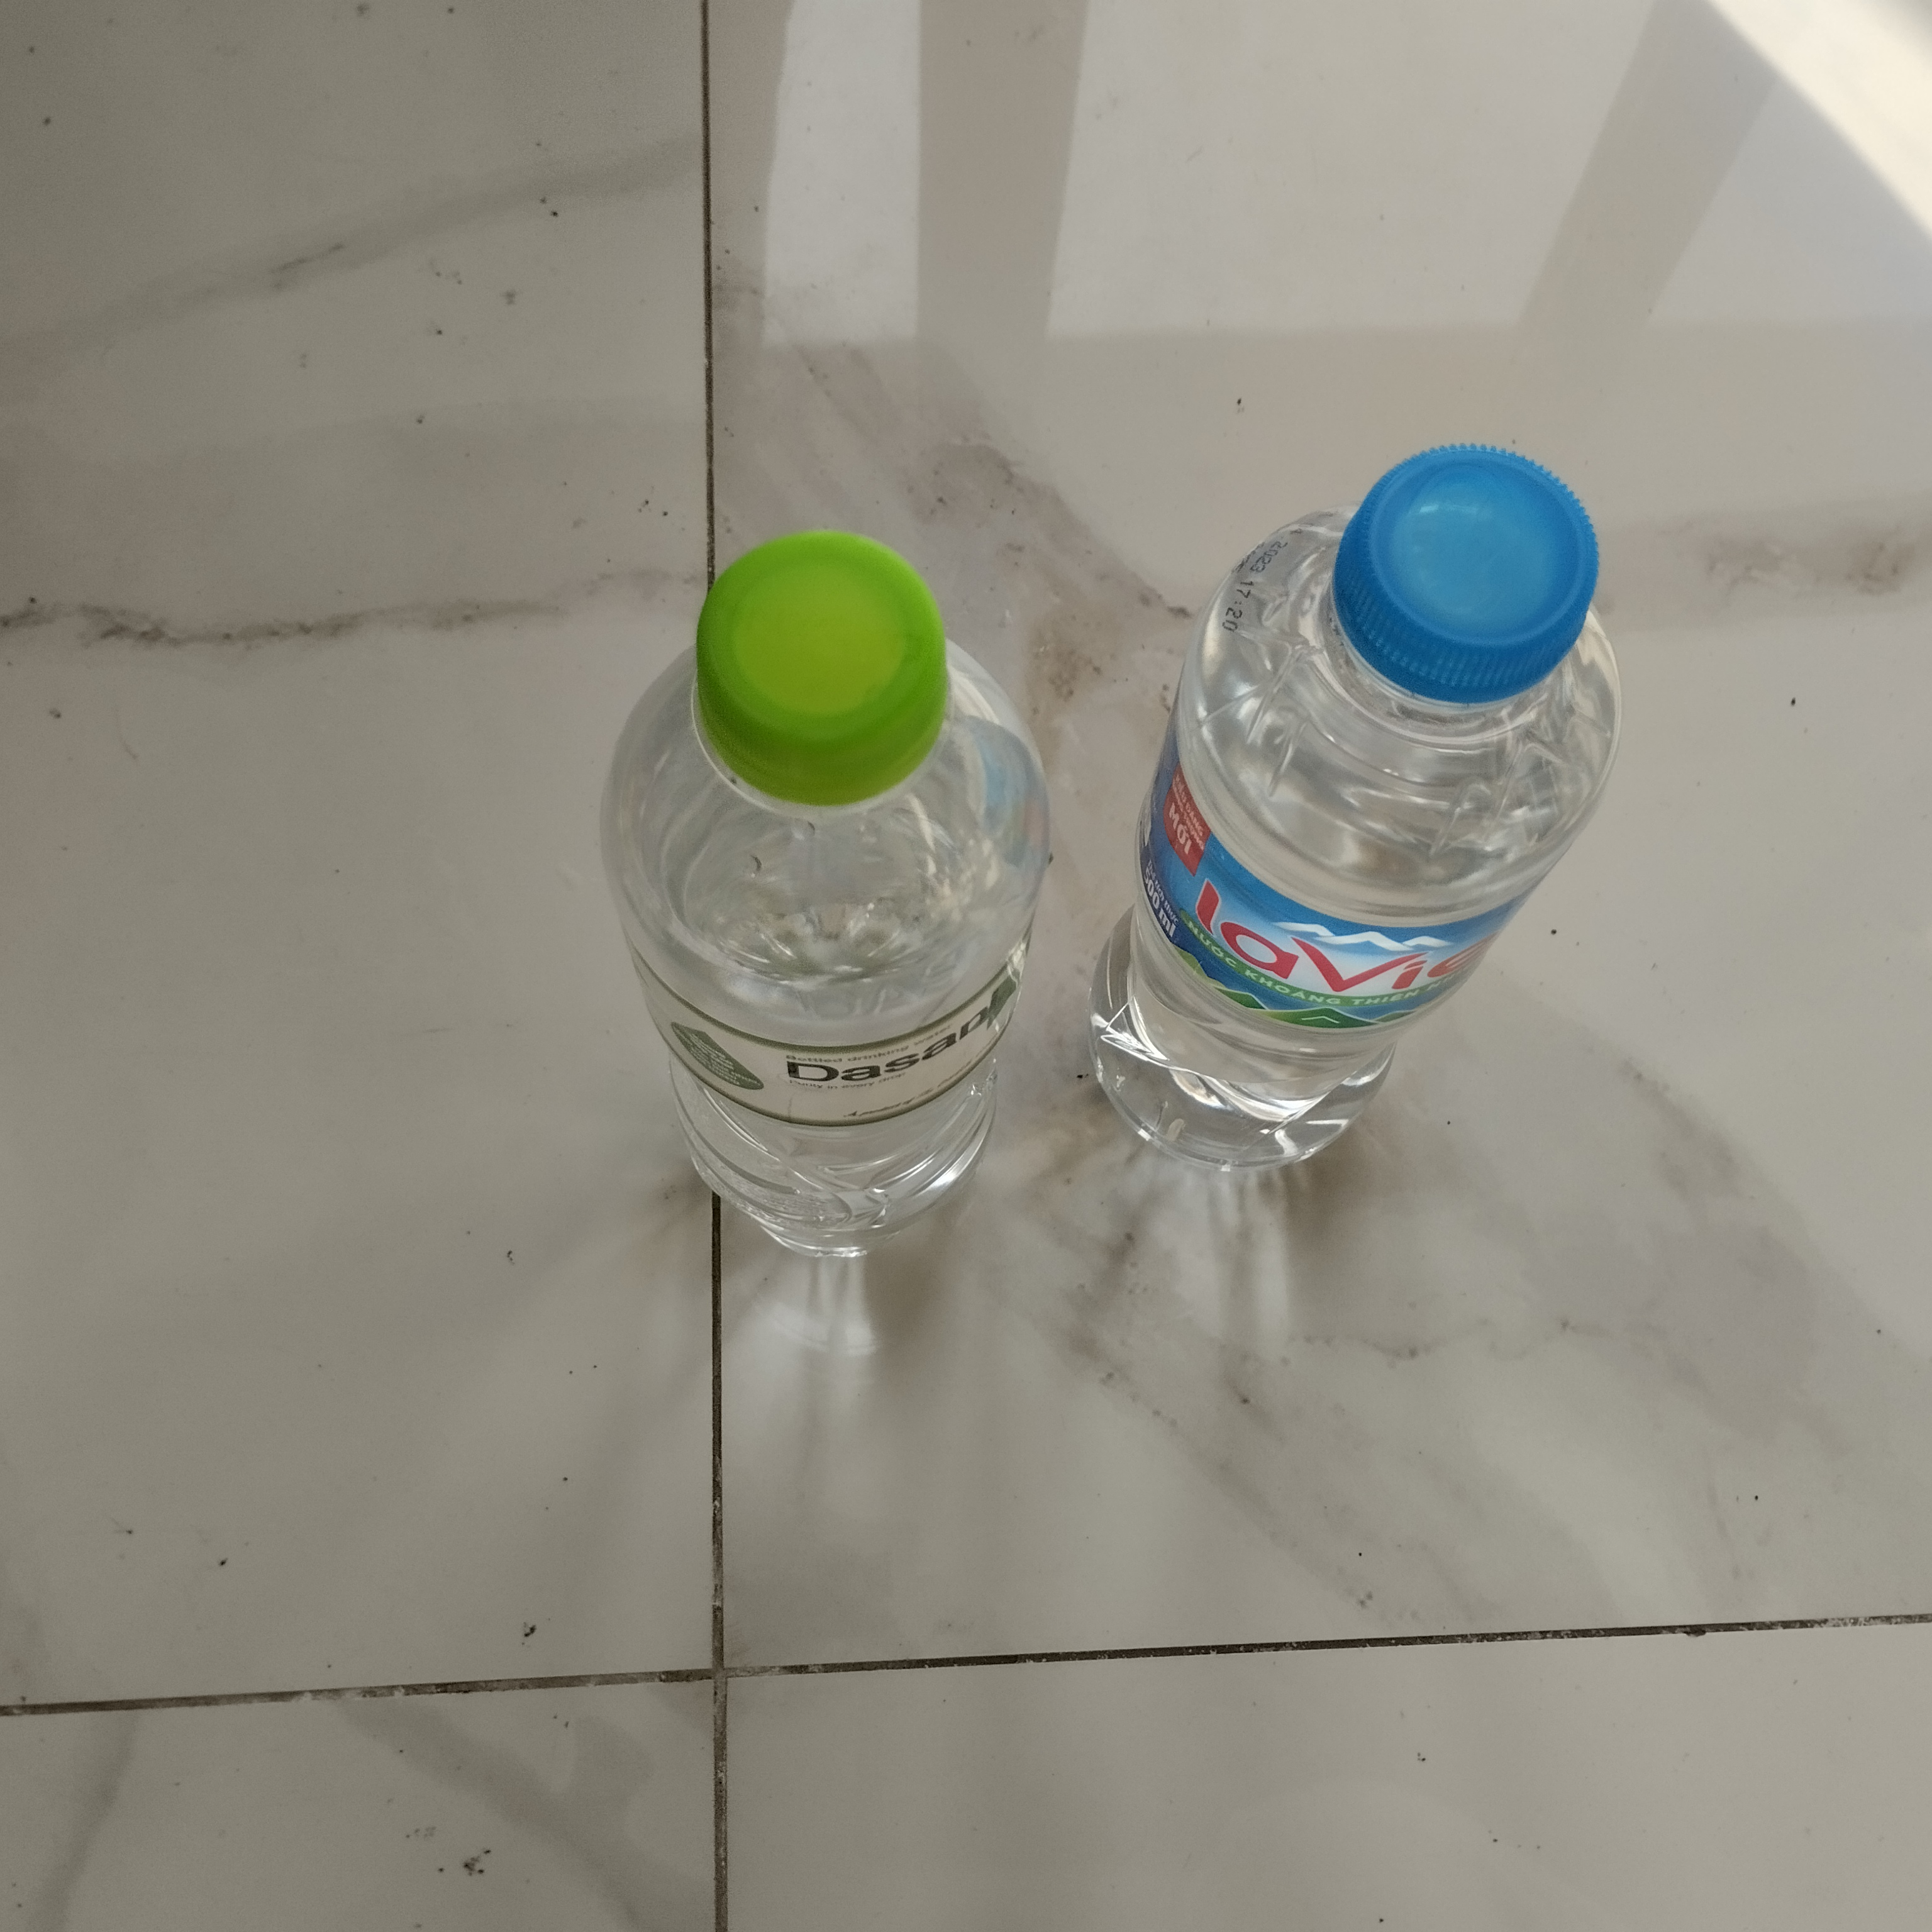Dasani: (594, 534, 1054, 1260)
Lavie: (1070, 442, 1628, 1205)
